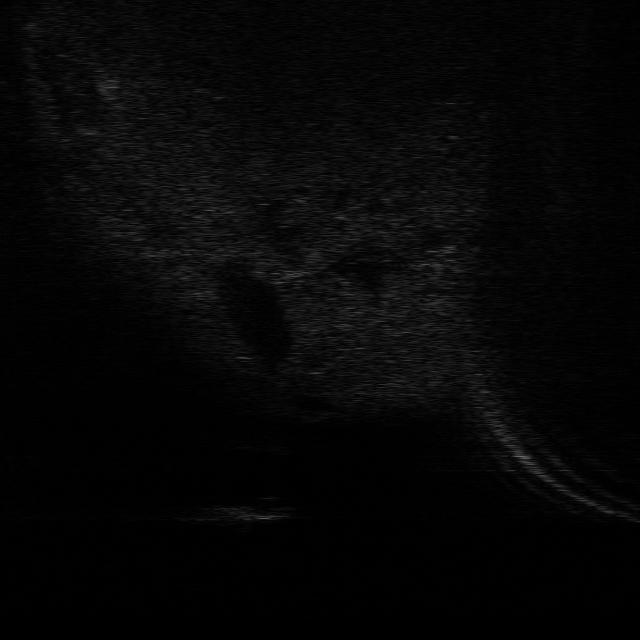cube: (187, 500, 295, 522)
